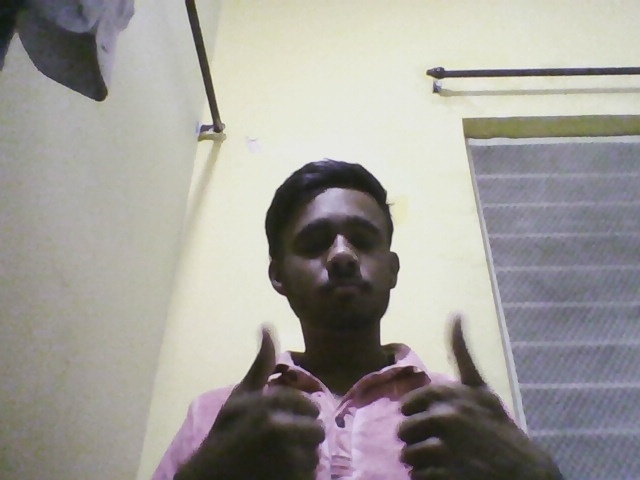thankyou: (163, 312, 571, 480)
